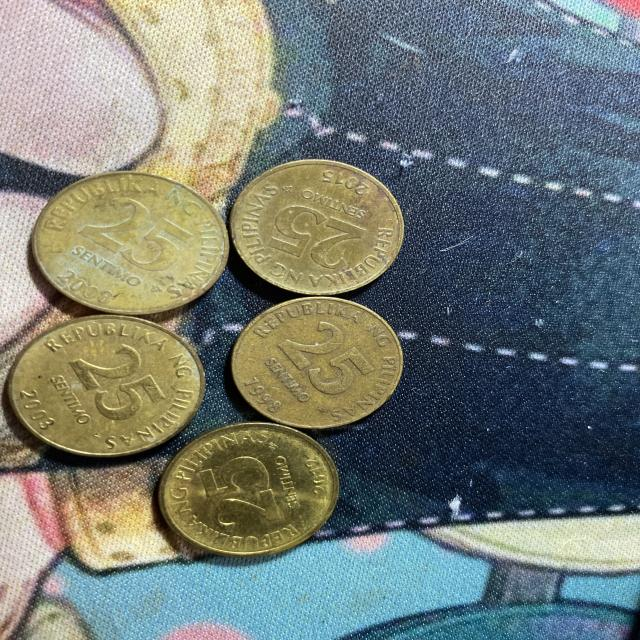25Cent_Old_Front: (62, 341, 167, 421), (87, 192, 183, 270), (282, 321, 370, 393), (272, 202, 362, 268), (200, 456, 283, 526)
